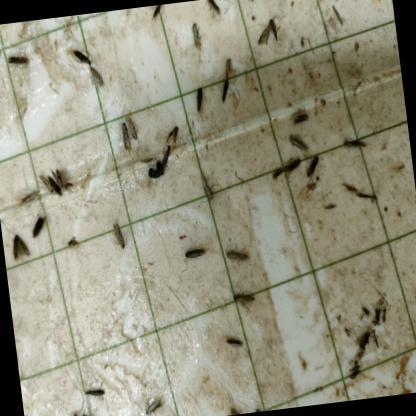prays_oleae: (3, 223, 35, 272), (215, 59, 245, 111), (221, 232, 250, 268), (228, 279, 259, 312), (254, 12, 282, 44), (106, 216, 130, 252), (340, 127, 372, 152), (42, 168, 64, 204), (182, 238, 210, 266), (198, 167, 218, 203), (182, 18, 204, 50), (80, 380, 108, 405), (162, 122, 185, 152), (190, 83, 210, 116), (4, 50, 32, 72), (70, 42, 92, 70), (26, 212, 50, 237), (290, 107, 314, 132), (138, 393, 164, 416), (125, 113, 142, 148), (286, 128, 310, 152), (224, 328, 246, 354), (303, 152, 323, 180), (157, 142, 176, 171), (283, 154, 304, 178), (116, 120, 132, 151), (38, 170, 53, 199), (89, 64, 105, 86), (16, 190, 38, 206), (148, 4, 165, 24), (266, 165, 288, 180), (204, 0, 221, 18), (226, 401, 246, 415), (14, 339, 22, 365), (81, 409, 96, 416), (68, 411, 87, 416)
